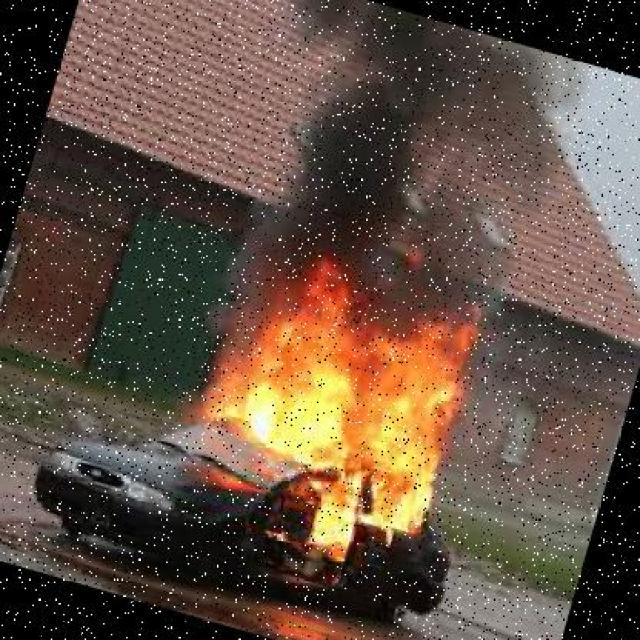fire: (177, 220, 529, 558)
